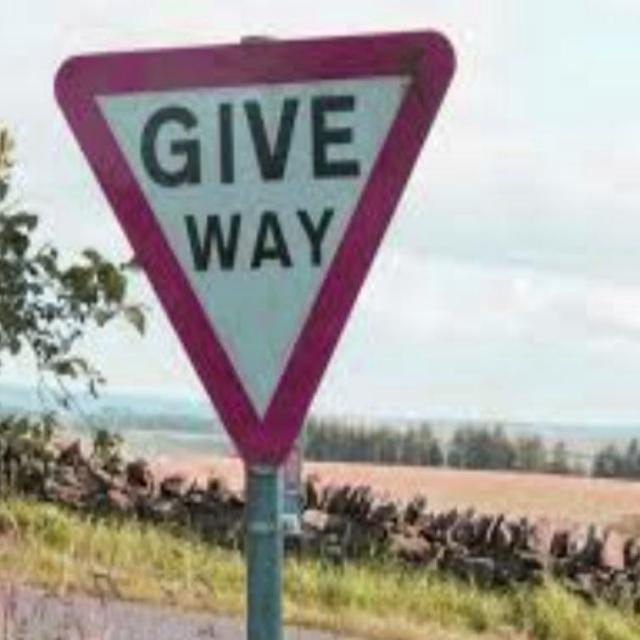giveway: (56, 27, 456, 468)
